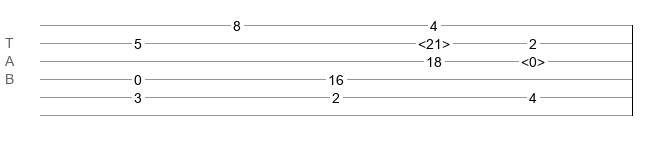0: (134, 72, 142, 82)
16: (328, 72, 344, 82)
18: (426, 54, 442, 64)
2: (332, 90, 340, 100), (529, 36, 537, 46)
3: (134, 90, 142, 100)
4: (430, 18, 438, 28), (529, 90, 537, 100)
5: (134, 36, 142, 46)
8: (233, 18, 241, 28)
harmonic: (418, 36, 450, 46), (521, 54, 545, 64)
